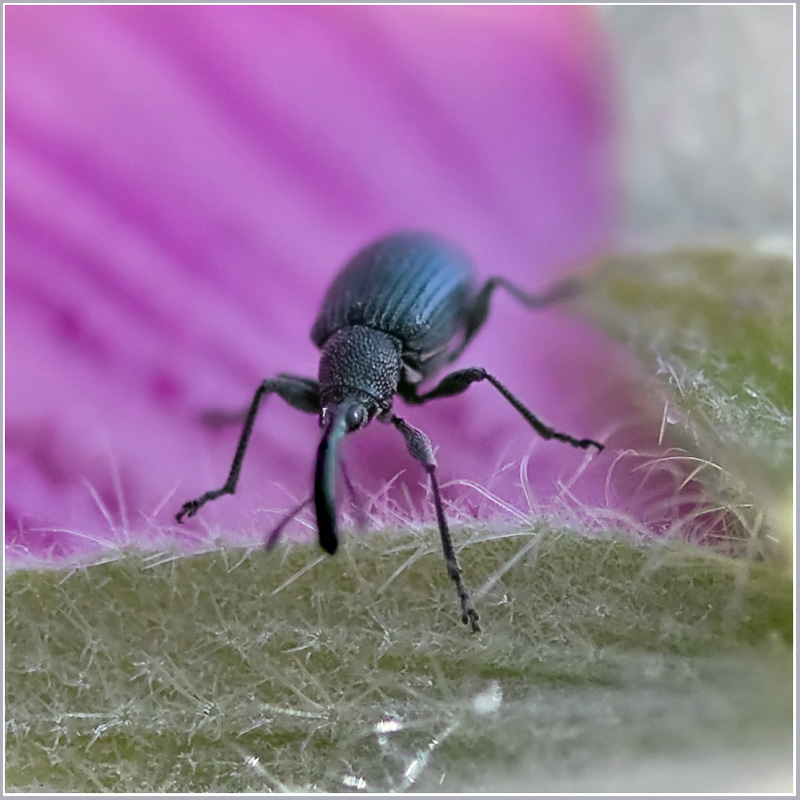dolgonosik: (178, 229, 635, 638)
